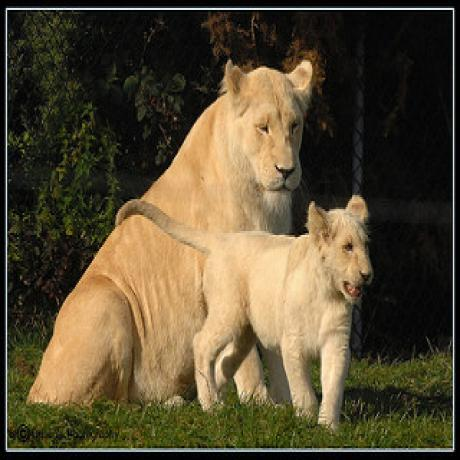Lion: (26, 55, 316, 408), (177, 197, 374, 423)
